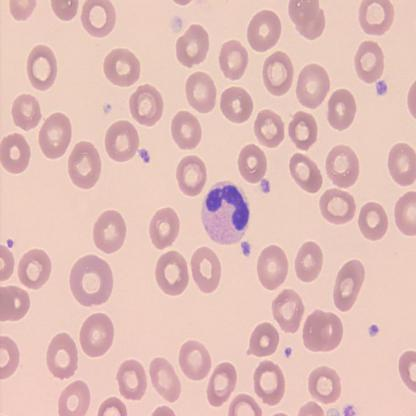Band Neutrophil: (199, 177, 252, 248)
